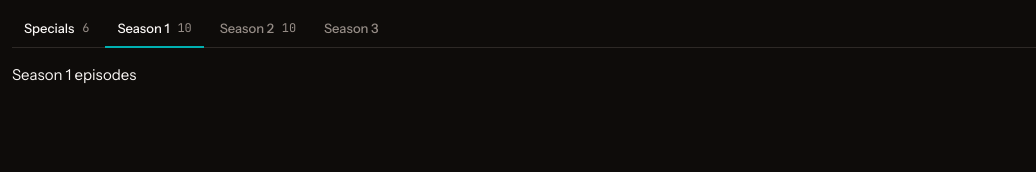
Test: Tabs — behaviour › changes the value on click
Step 1. Click the tab "Specials 6" → (57, 30), box [12,12,101,48]
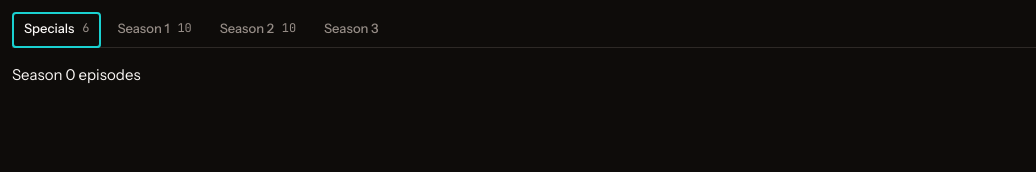
Expected: the panel reads "Season 0 episodes", [12,64,140,84]
